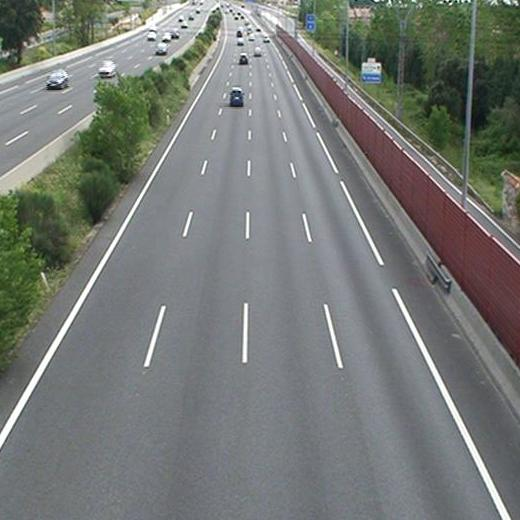car: (230, 89, 243, 105), (253, 46, 261, 56), (239, 53, 247, 62), (237, 37, 244, 45)
